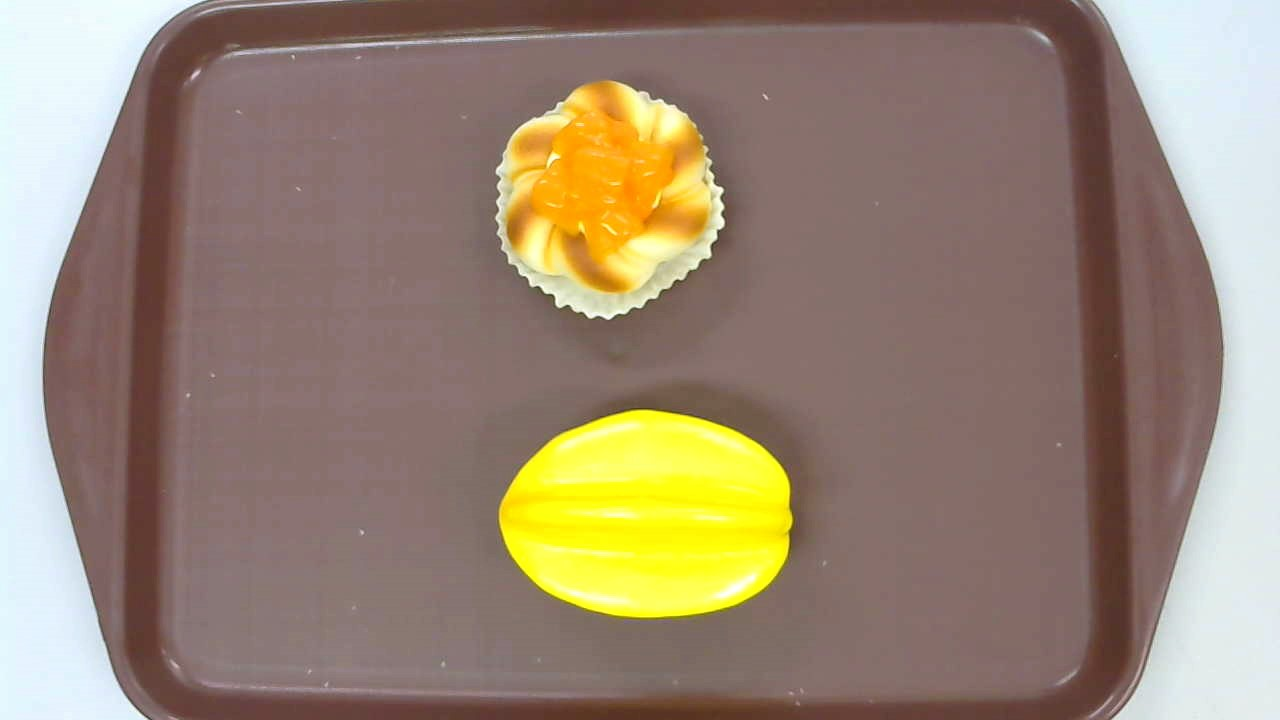mango tart: (493, 79, 726, 321)
star fruit: (496, 409, 794, 620)
